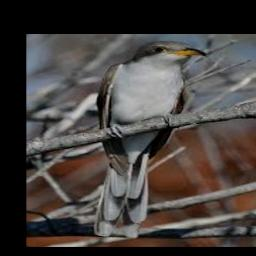Cuckoo: (95, 41, 206, 236)
